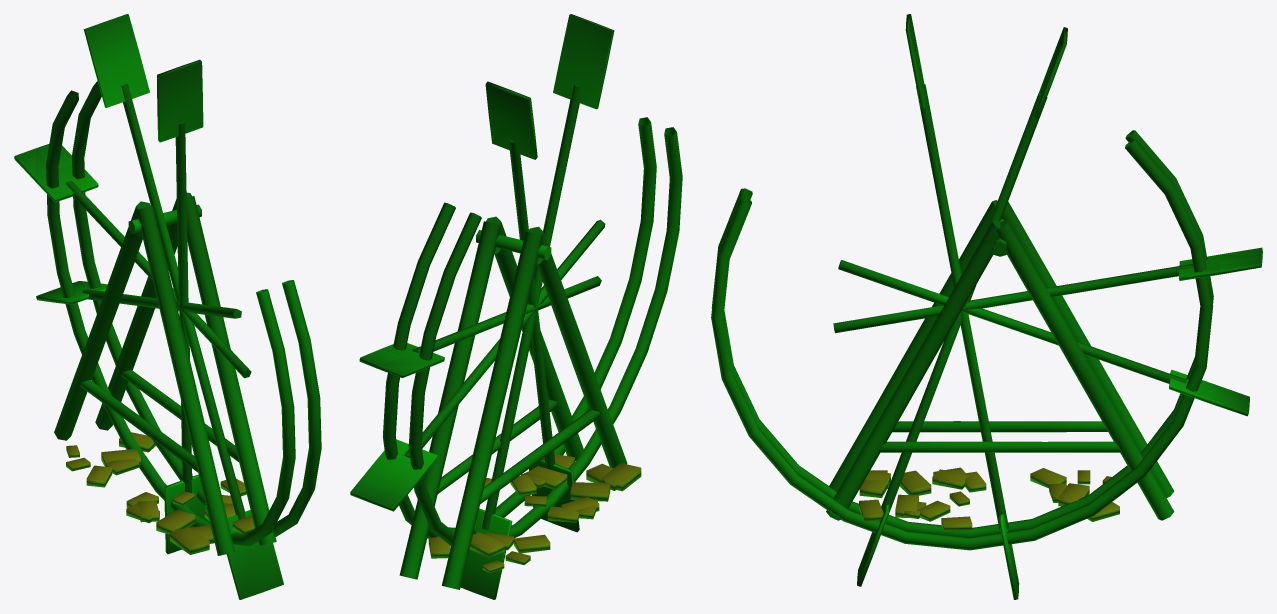
File: tide_wheel_burned.glb
3 renders of one model, left to right at view 1: azimuth 30°, elevation 25°; view 2: azimuth 150°, elevation 25°; view 3: azimuth 270°, elevation 25°, orthographic. The views are drawn at different scales.
Visible parts, largest first — view 1: tide_wheel_burned; view 2: tide_wheel_burned; view 3: tide_wheel_burned.
Boxes of the visible parts, bbox=[...] form: tide_wheel_burned: bbox=[14, 14, 321, 599]; tide_wheel_burned: bbox=[350, 14, 682, 599]; tide_wheel_burned: bbox=[711, 14, 1262, 599].
Size of what is drawn, in the model's own units: 0.9028 by 3.98 by 3.66.
